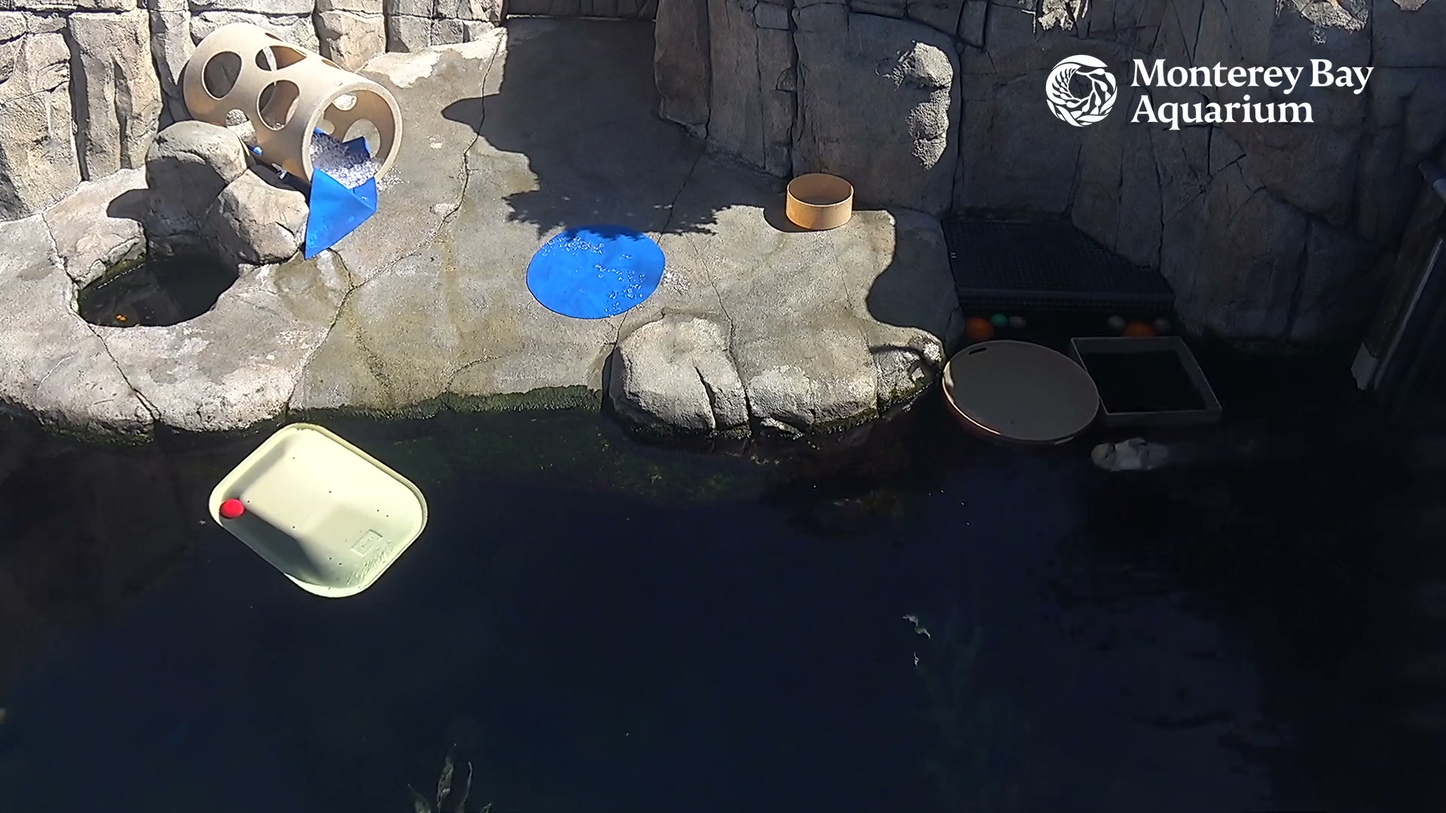Southern Sea Otter: (1080, 416, 1370, 483)
